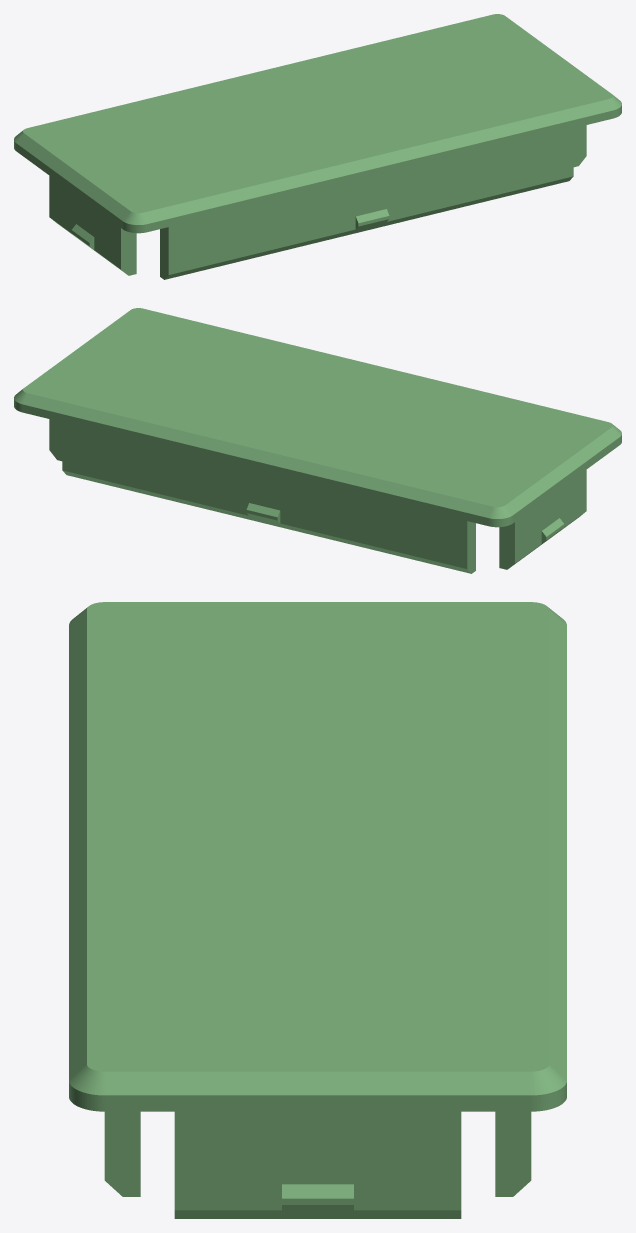
The model's file is other-homeracker-pi5-case-8.glb.
3 renders of one model, top to bottom at view 1: azimuth 30°, elevation 25°; view 2: azimuth 150°, elevation 25°; view 3: azimuth 270°, elevation 25°, orthographic. The views are drawn at different scales.
Visible parts, largest first — view 1: HomeRacker+-+Pi5+Case.3mf; view 2: HomeRacker+-+Pi5+Case.3mf; view 3: HomeRacker+-+Pi5+Case.3mf.
Part boxes in pixels (bbox=[...]): HomeRacker+-+Pi5+Case.3mf: bbox=[14, 14, 621, 279]; HomeRacker+-+Pi5+Case.3mf: bbox=[14, 308, 621, 573]; HomeRacker+-+Pi5+Case.3mf: bbox=[69, 602, 566, 1218].
Size of the model in its own units: 64 by 10 by 27.8.
